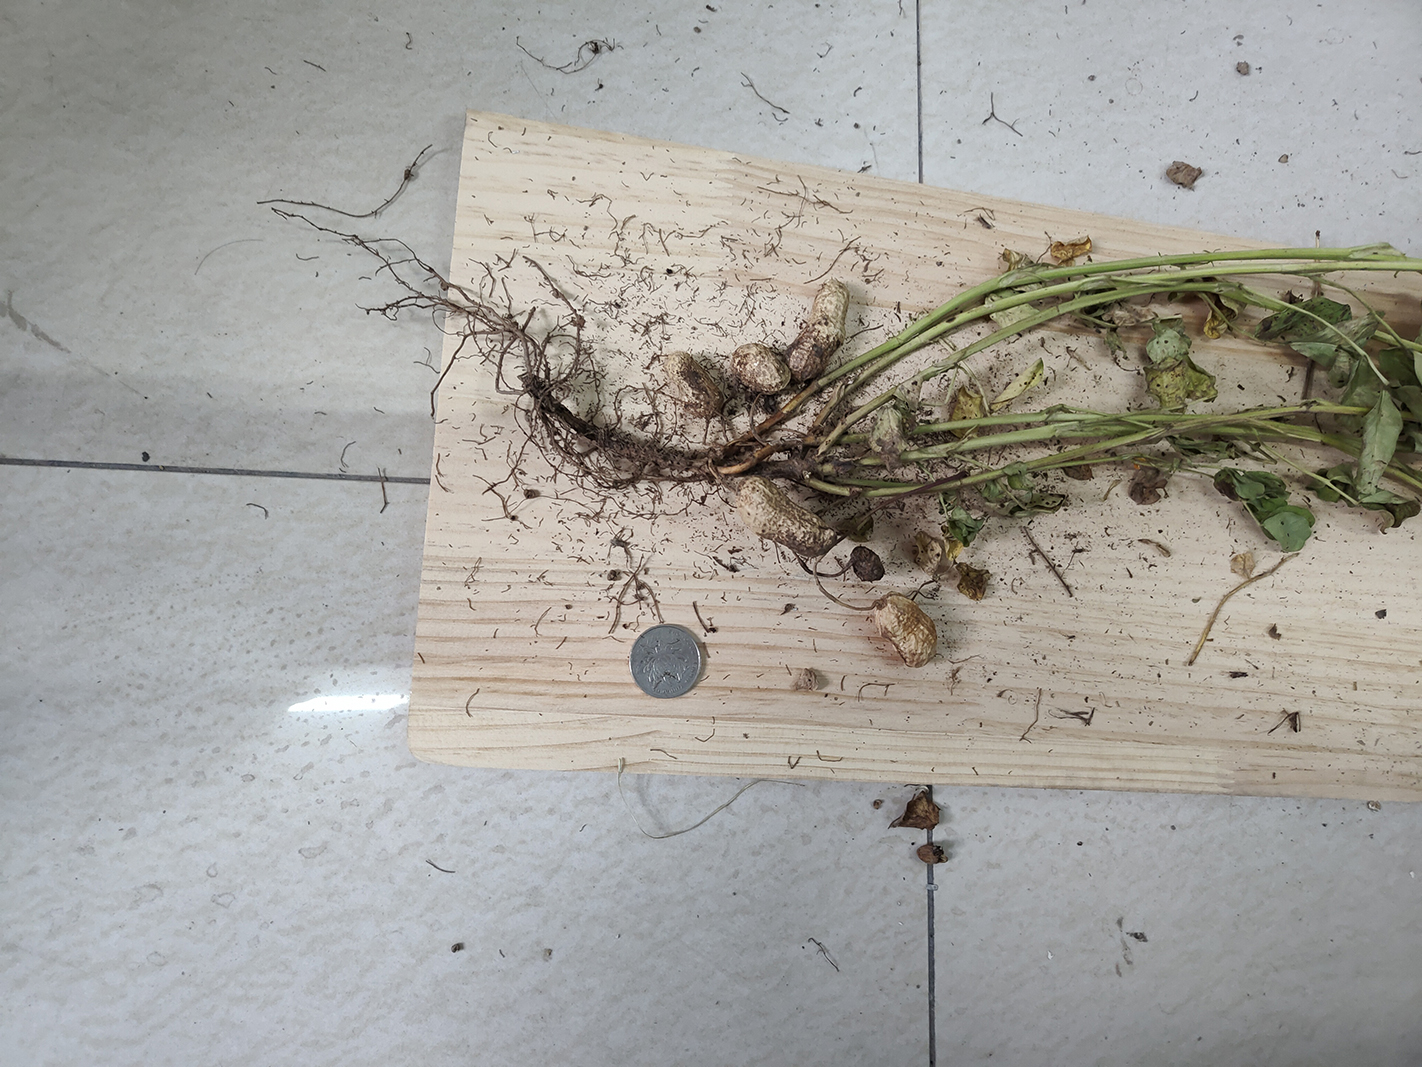h: (735, 475, 826, 554), (788, 279, 849, 380), (874, 595, 938, 668), (731, 344, 791, 391)
l: (664, 353, 721, 419)
